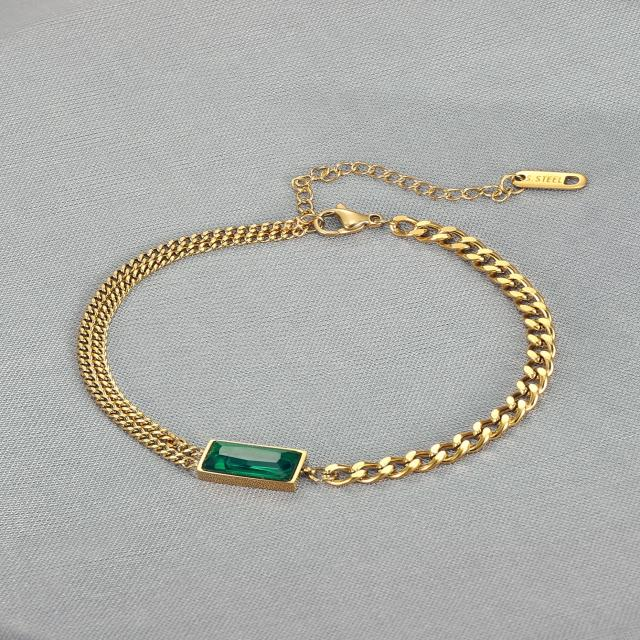bracelet: (27, 97, 640, 534)
